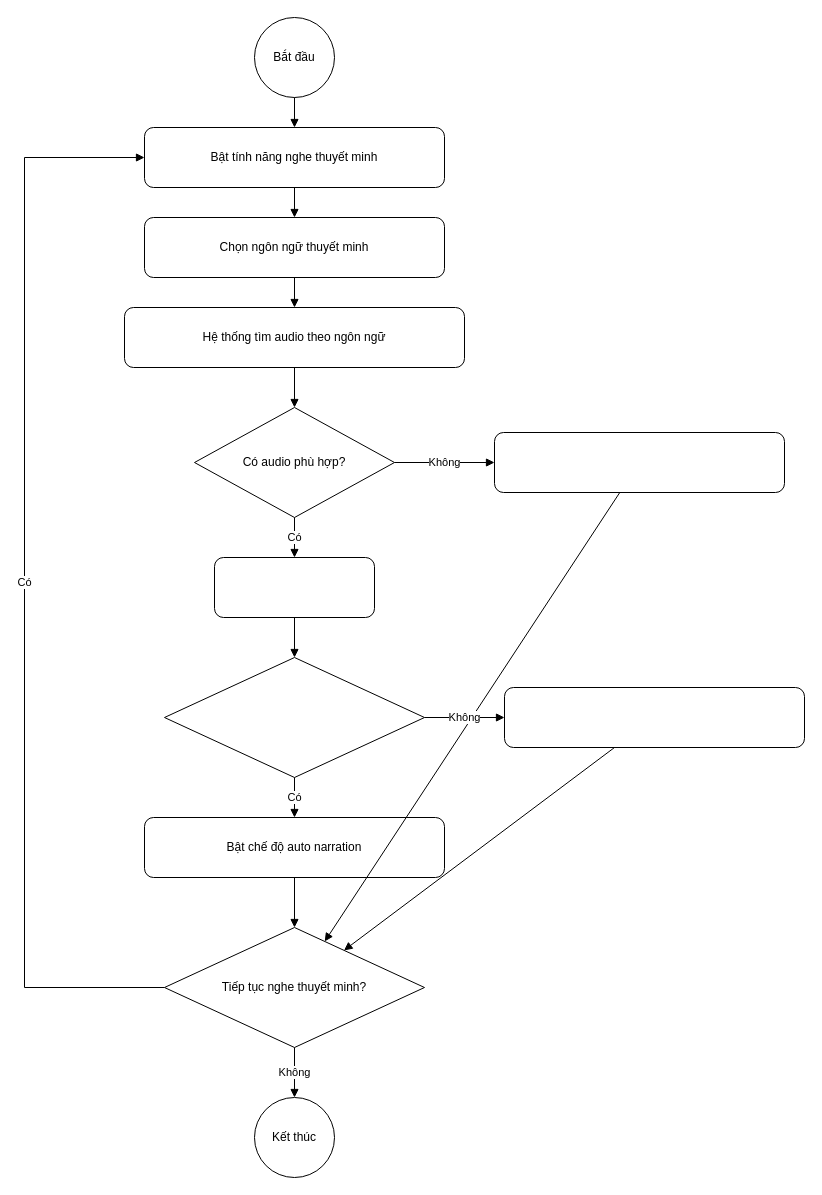
This 822x1195 diagram has some shape labels left out. Each missing label, with the centre of its shape:
Bật thuyết minh tự động?: (294,717)
Cho phép phát thủ công từ chi tiết POI: (654,717)
Phát audio: (294,587)
Thông báo không có audio phù hợp: (639,462)
